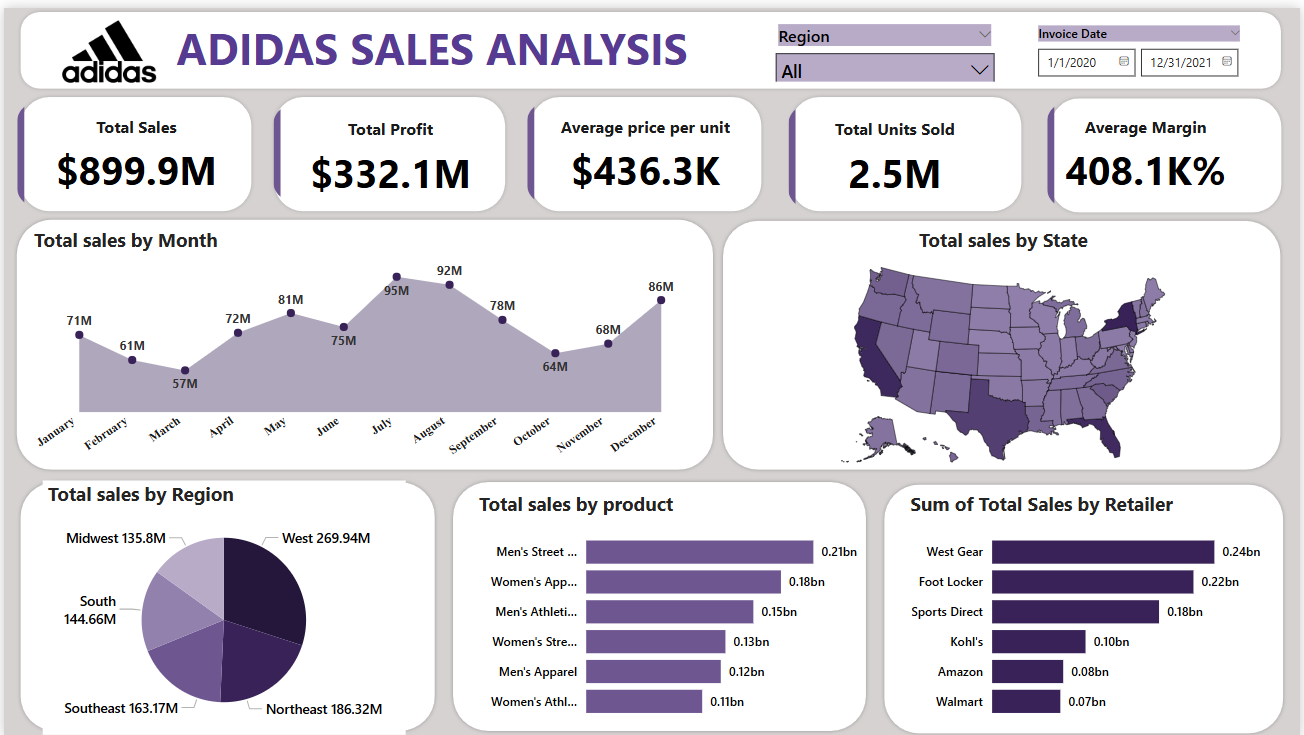

The page's visual inventory and layout, read from the dashboard file:
{"tool":"powerbi","page":{"name":"Page 1","canvas":[1280,720],"ordinal":0},"visuals":[{"type":"shape","box":[12.3,0,1252.8,83.7],"z":0},{"type":"textbox","box":[166,5.5,544.8,74.1],"z":1000},{"type":"shape","box":[12.3,83.7,236,120.8],"z":2000},{"type":"cardVisual","fields":{"Data":["Sum(Data Sales Adidas.Total Sales)"]},"box":[1.4,81,259.3,127.6],"z":3000},{"type":"shape","box":[263.5,83.7,236,120.8],"z":4000},{"type":"cardVisual","fields":{"Data":["Sum(Data Sales Adidas.Operating Profit)"]},"box":[253.9,83.7,255.2,119.4],"z":5000},{"type":"shape","box":[772.6,83.7,236,120.8],"z":6000},{"type":"shape","box":[1029.2,85.1,236,120.8],"z":7000},{"type":"shape","box":[516,83.7,236,120.8],"z":8000},{"type":"cardVisual","fields":{"Data":["Sum(Data Sales Adidas.Price per Unit)"]},"box":[505,81,258,124.9],"z":9000},{"type":"cardVisual","fields":{"Data":["Sum(Data Sales Adidas.Units Sold)"]},"box":[763,83.7,234.6,126.2],"z":10000},{"type":"slicer","fields":{"Values":["Data Sales Adidas.Region"]},"box":[752,11,236,61.7],"z":11000},{"type":"shape","box":[8.2,204.5,695.7,255.2],"z":12000},{"type":"areaChart","fields":{"Category":["Data Sales Adidas.Invoice Date.Variation.Date Hierarchy.Month"],"Y2":["Sum(Data Sales Adidas.Total Sales)"]},"box":[24.7,215.4,650.4,244.3],"z":13000},{"type":"shape","box":[706.7,205.8,558.5,253.9],"z":14000},{"type":"shape","box":[12.3,463.8,417.2,253.9],"z":15000},{"type":"pieChart","fields":{"Category":["Data Sales Adidas.Region"],"Y":["Sum(Data Sales Adidas.Total Sales)"]},"box":[38.4,466.6,358.1,251.1],"z":16000},{"type":"shapeMap","fields":{"Category":["Data Sales Adidas.State"],"Value":["Sum(Data Sales Adidas.Total Sales)"]},"box":[746.5,215.4,480.3,248.4],"z":17000},{"type":"shape","box":[439.1,463.8,415.8,253.9],"z":18000},{"type":"shape","box":[865.9,466.6,402,253.9],"z":19000},{"type":"barChart","title":"Total sales by product","fields":{"Category":["Data Sales Adidas.Product"],"Y":["Sum(Data Sales Adidas.Total Sales)"]},"box":[463.8,476.2,391.1,237.4],"z":20000},{"type":"barChart","fields":{"Category":["Data Sales Adidas.Retailer"],"Y":["Sum(Data Sales Adidas.Total Sales)"]},"box":[890.6,476.2,356.8,237.4],"z":21000},{"type":"image","box":[38.4,6.9,131.7,71.4],"z":22000},{"type":"cardVisual","fields":{"Data":["Sum(Data Sales Adidas.Operating Margin)"]},"box":[1018.2,81,218.2,129],"z":23000},{"type":"slicer","fields":{"Values":["Data Sales Adidas.Invoice Date"]},"box":[1008.6,12.3,225,61.7],"z":24000}]}

Visuals, with their boxes in screenshot pixels (x1, y1, x2, y2), scaled from the page's 1280x720 canvas onto the 1304x735 screenshot:
shape: 13:0:1289:85
textbox: 169:6:724:81
shape: 13:85:253:209
cardVisual - Sum(Data Sales Adidas.Total Sales): 1:83:266:213
shape: 268:85:509:209
cardVisual - Sum(Data Sales Adidas.Operating Profit): 259:85:519:207
shape: 787:85:1028:209
shape: 1048:87:1289:210
shape: 526:85:766:209
cardVisual - Sum(Data Sales Adidas.Price per Unit): 514:83:777:210
cardVisual - Sum(Data Sales Adidas.Units Sold): 777:85:1016:214
slicer - Data Sales Adidas.Region: 766:11:1007:74
shape: 8:209:717:469
areaChart - Data Sales Adidas.Invoice Date.Variation.Date Hierarchy.Month x Sum(Data Sales Adidas.Total Sales): 25:220:688:469
shape: 720:210:1289:469
shape: 13:473:438:733
pieChart - Data Sales Adidas.Region x Sum(Data Sales Adidas.Total Sales): 39:476:404:733
shapeMap - Data Sales Adidas.State x Sum(Data Sales Adidas.Total Sales): 760:220:1250:473
shape: 447:473:871:733
shape: 882:476:1292:734
"Total sales by product" barChart: 472:486:871:728
barChart - Data Sales Adidas.Retailer x Sum(Data Sales Adidas.Total Sales): 907:486:1271:728
image: 39:7:173:80
cardVisual - Sum(Data Sales Adidas.Operating Margin): 1037:83:1260:214
slicer - Data Sales Adidas.Invoice Date: 1028:13:1257:76
